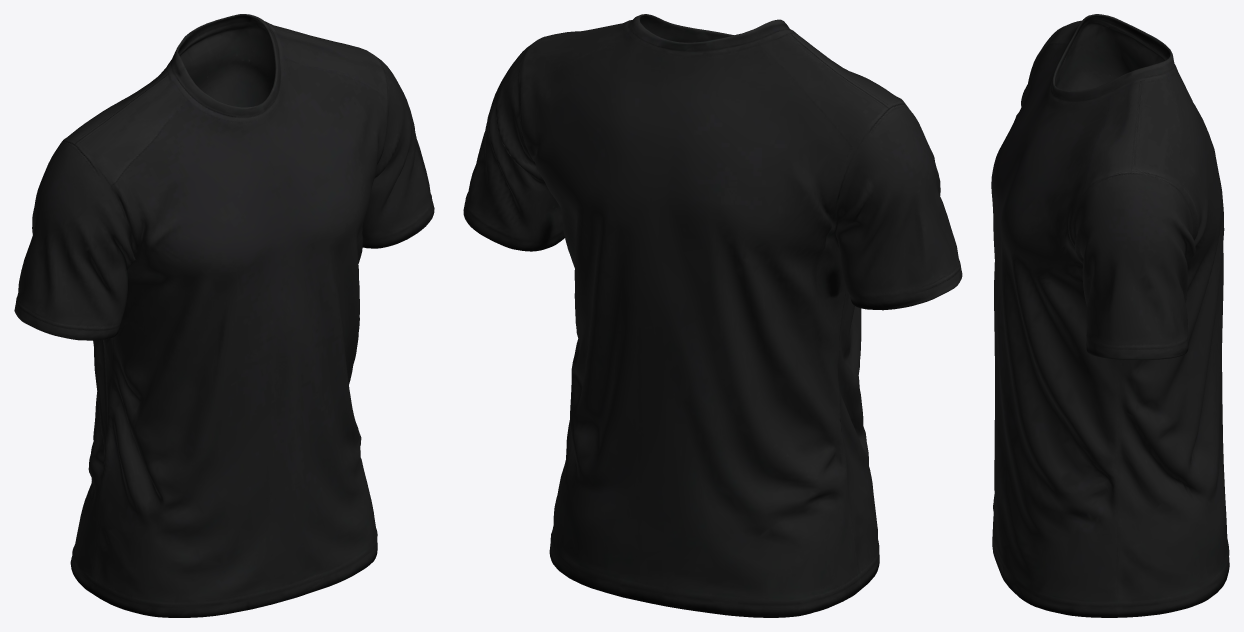
The model's file is tshirt.glb.
3 views of the same model, side by side, from view 1: azimuth 30°, elevation 25°; view 2: azimuth 150°, elevation 25°; view 3: azimuth 270°, elevation 25° (orthographic). The views are drawn at different scales.
Parts seen in each view (by area): view 1: tripo_node_7025ddc4; view 2: tripo_node_7025ddc4; view 3: tripo_node_7025ddc4.
Part boxes in pixels (bbox=[...]): tripo_node_7025ddc4: bbox=[14, 14, 434, 617]; tripo_node_7025ddc4: bbox=[463, 14, 962, 617]; tripo_node_7025ddc4: bbox=[991, 14, 1229, 617].
Size of the model in its own units: 85.25 by 97.73 by 41.03.
Materials: 1 (1 with a texture image).
